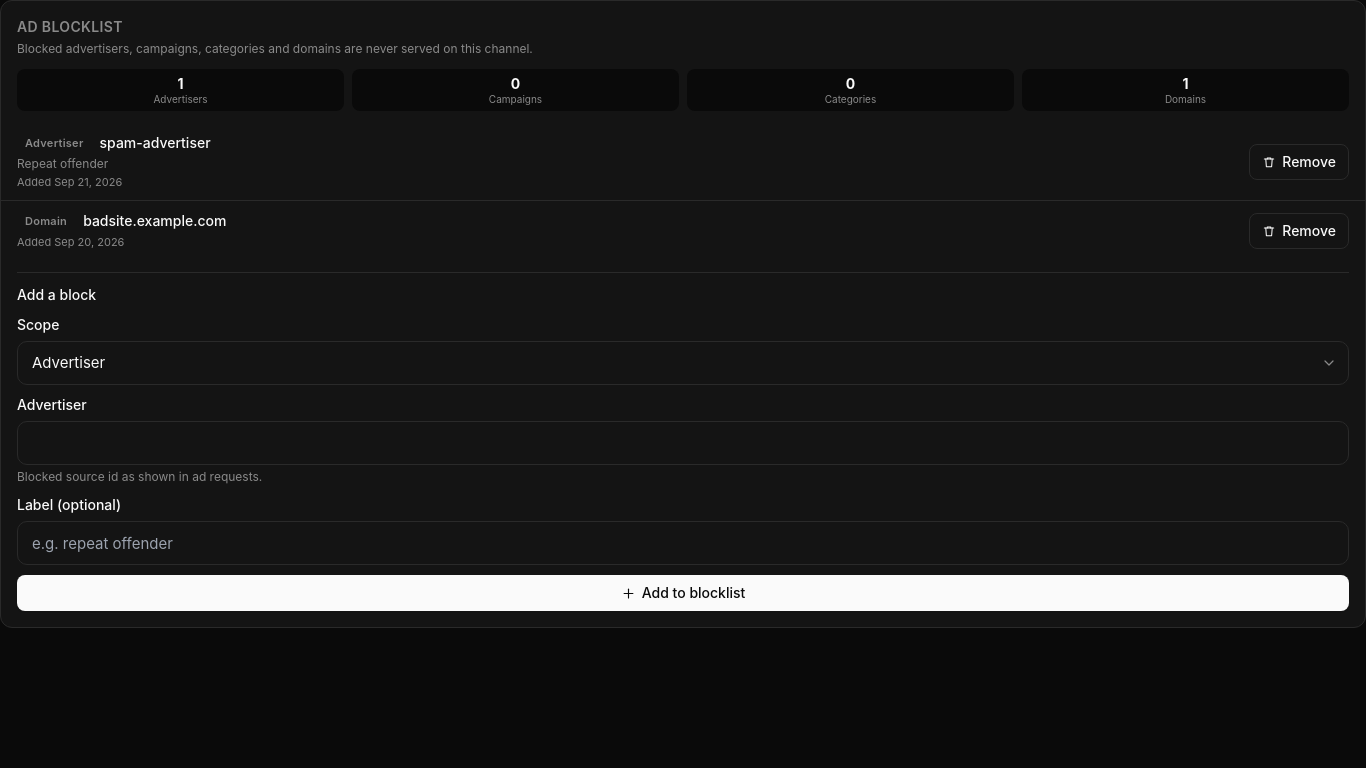
Test case: BlocklistPanel — remove › cancels without deleting when the confirmation is dismissed
Expected: the text "spam-advertiser" is shown, left=100, top=133, right=210, bottom=153
Click the button "Remove" in the row of "badsite.example.com". click: (1299, 230)
box: left=1249, top=212, right=1349, bottom=248
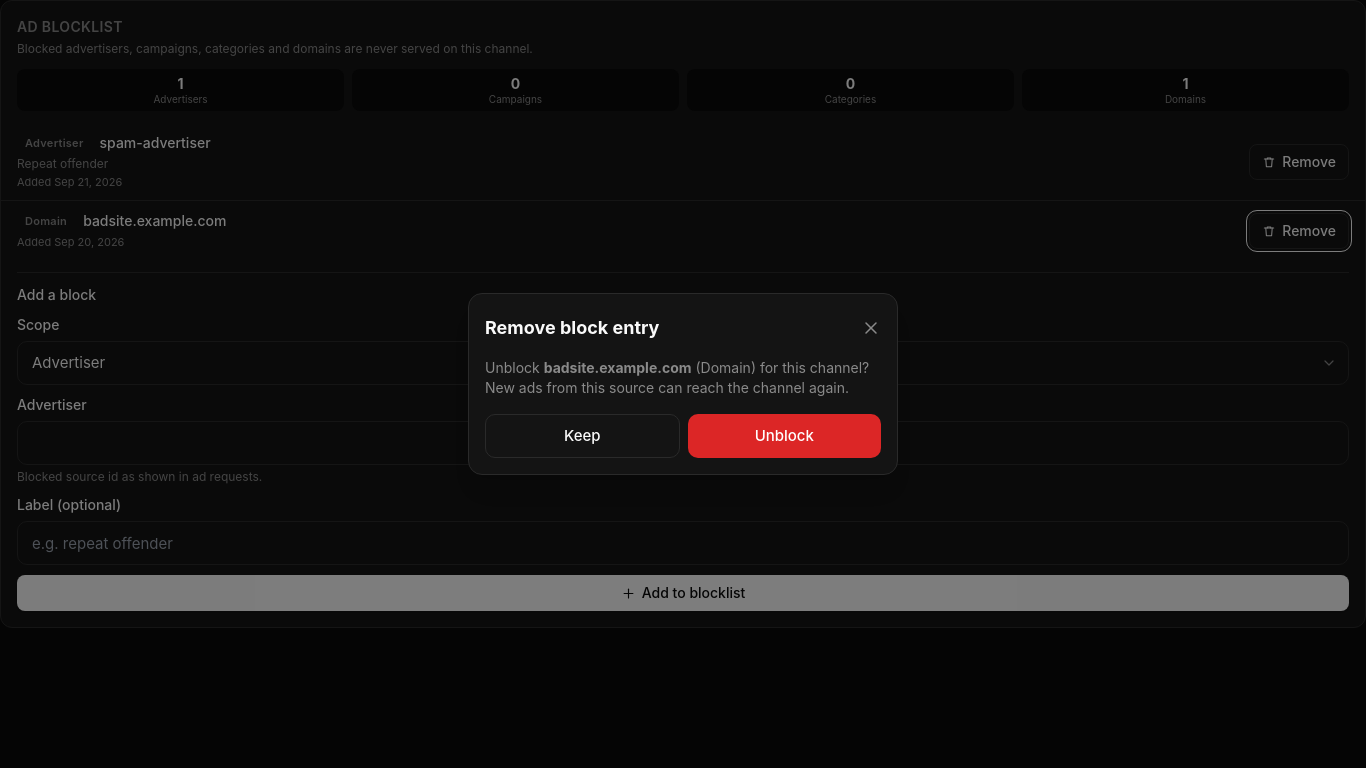
Click the button "Keep". click: (582, 436)
box: left=485, top=414, right=680, bottom=458
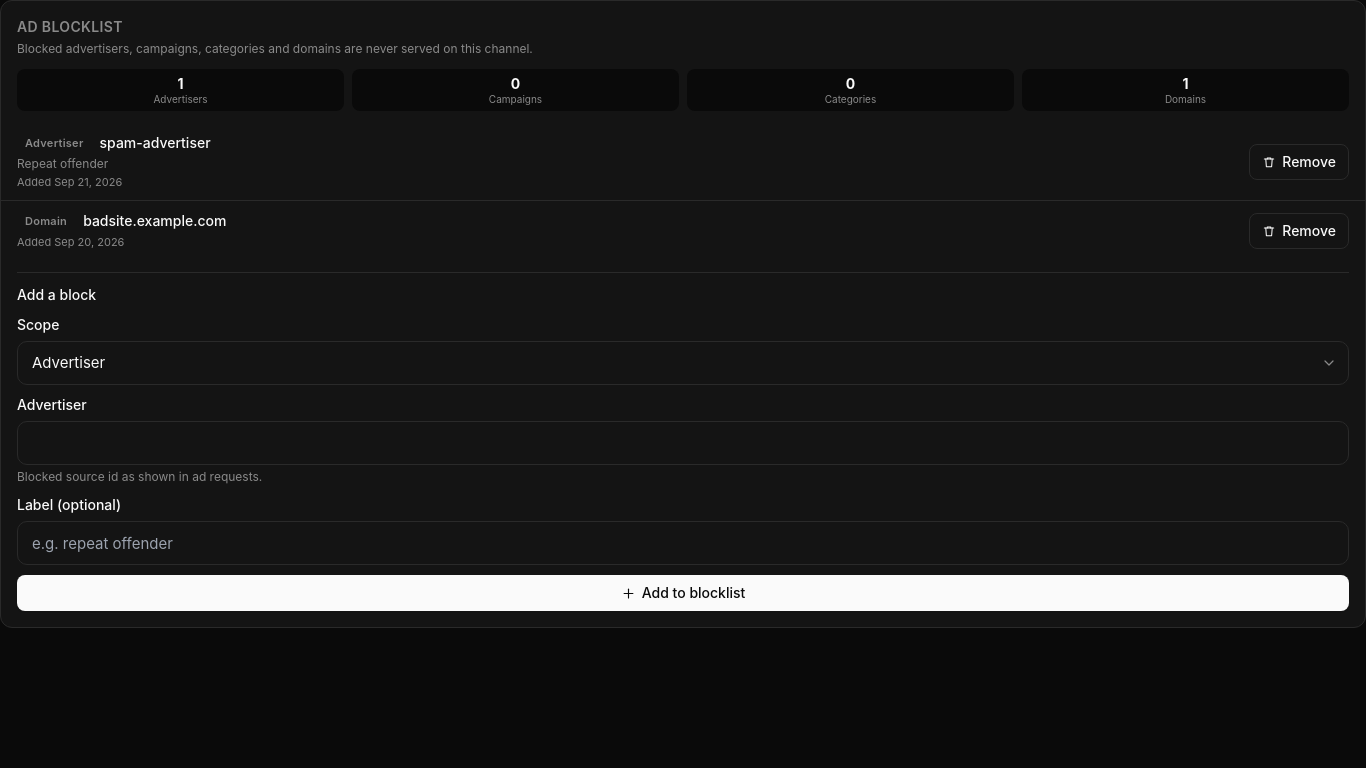
Expected: the dialog is gone
